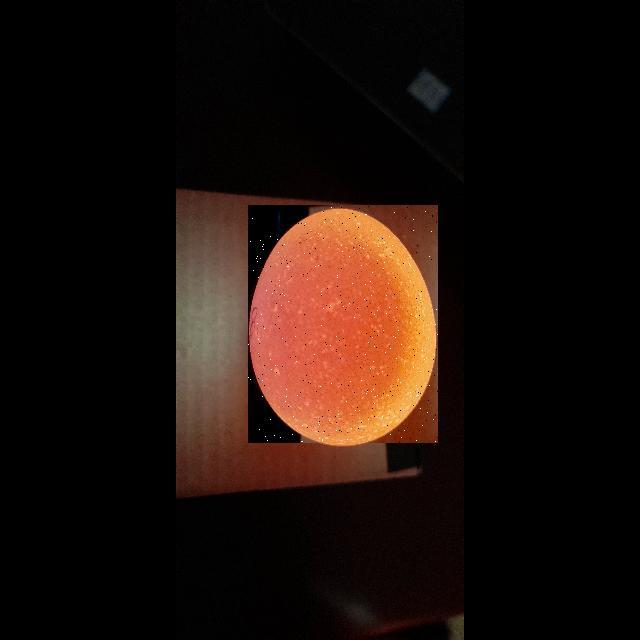Fertile: (248, 205, 438, 443)
